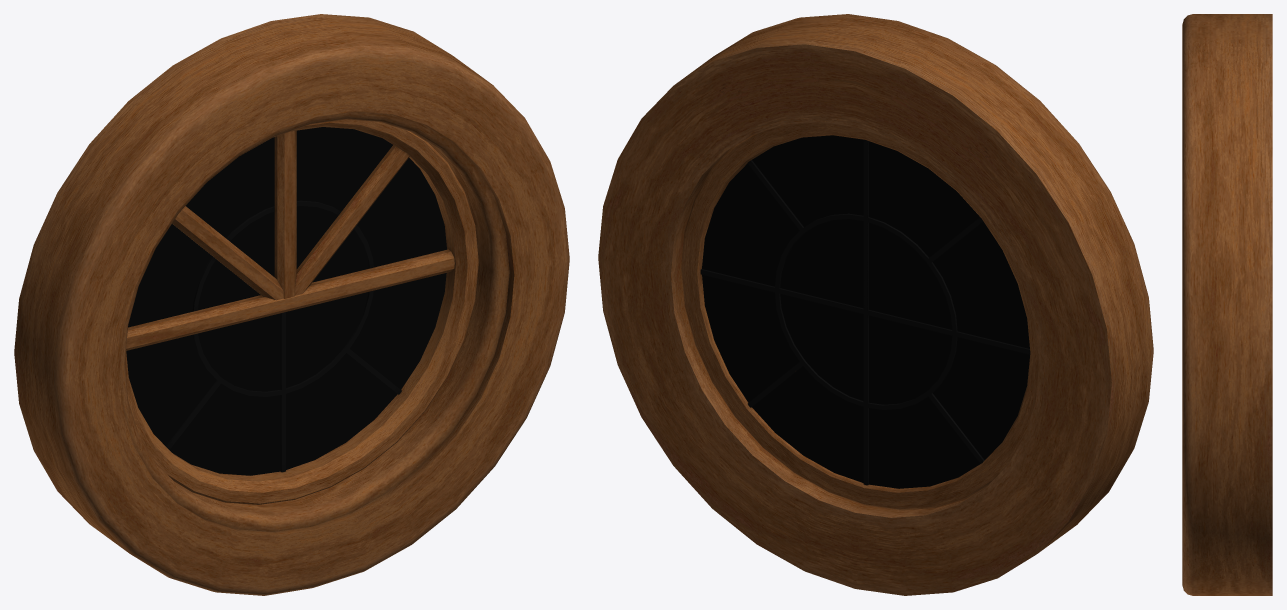
The model's file is smallRoundWindow.glb.
3 views of the same model, side by side, from view 1: azimuth 30°, elevation 25°; view 2: azimuth 150°, elevation 25°; view 3: azimuth 270°, elevation 25° (orthographic).
Visible parts, largest first — view 1: Circle.240_1, Circle.311_0; view 2: Circle.240_1, Circle.311_0; view 3: Circle.240_1.
Part boxes in pixels (x1,y1,x2,y2): Circle.240_1: (14, 14, 569, 595); Circle.311_0: (126, 127, 446, 475); Circle.240_1: (598, 14, 1153, 595); Circle.311_0: (702, 135, 1029, 488); Circle.240_1: (1182, 14, 1272, 595).
Size of the model in its own units: 5.64 by 5.64 by 0.8738.
Materials: 2 (1 with a texture image).
